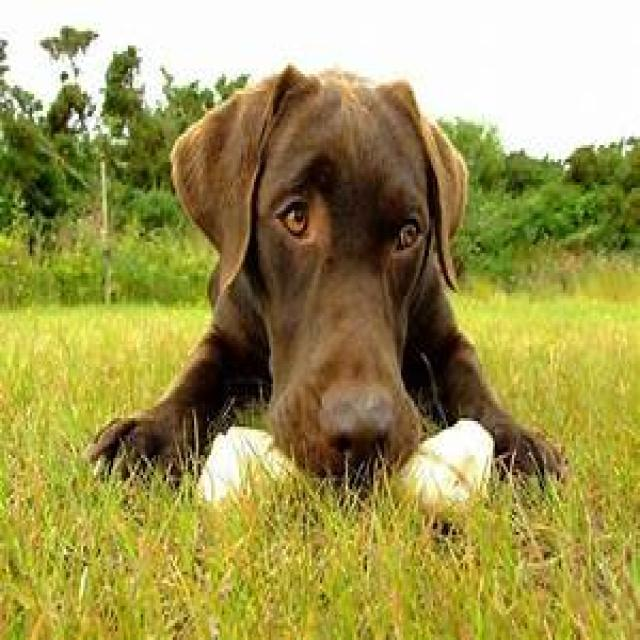dog: (65, 2, 578, 539)
